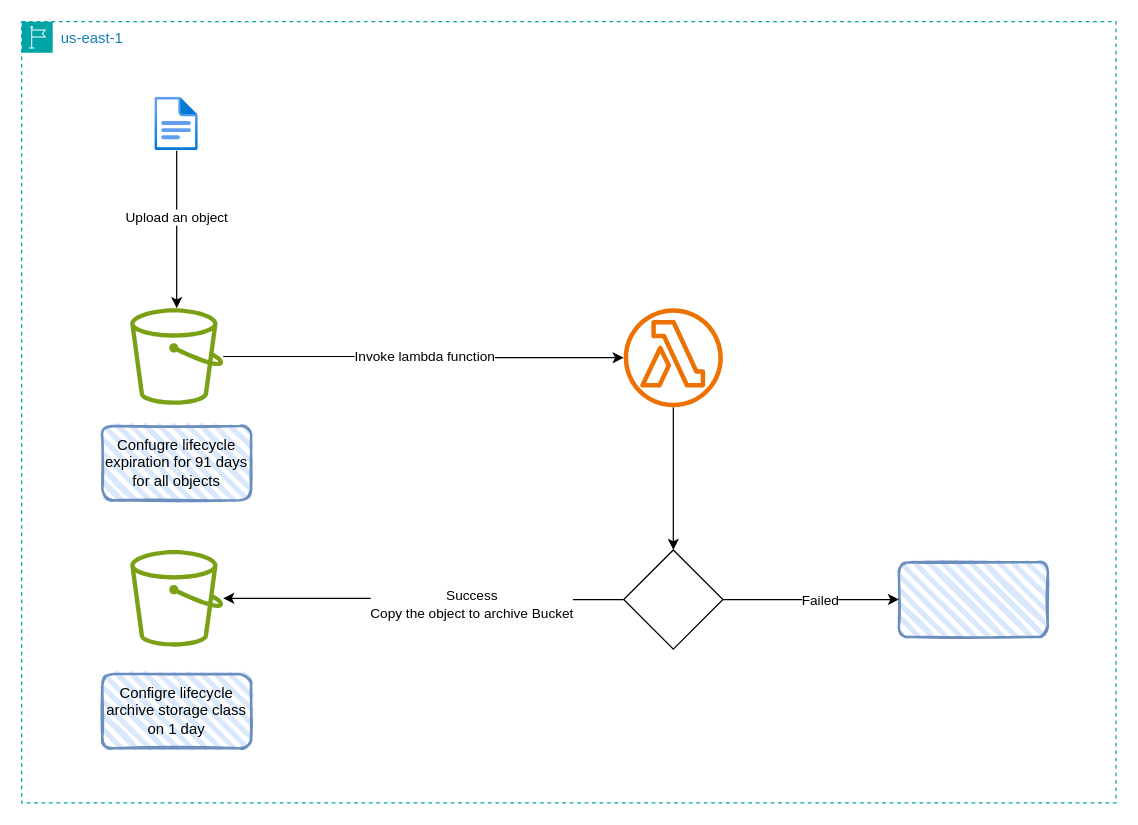
This 1138x825 diagram has some shape labels left out. Each missing label, with the centre of its shape:
"if condition" goes at [672,599].
"Notify my" goes at [972,598].
